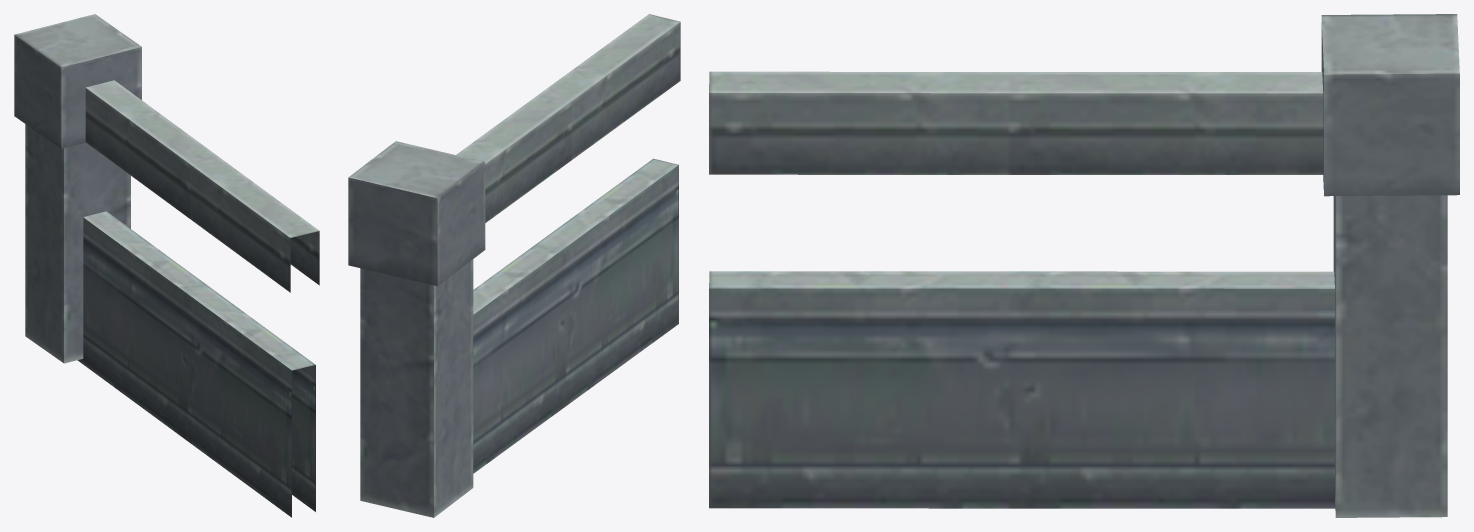
The model's file is jm_hulan01.FBX.
3 renders of one model, left to right at view 1: azimuth 30°, elevation 25°; view 2: azimuth 150°, elevation 25°; view 3: azimuth 270°, elevation 25°, orthographic. The views are drawn at different scales.
Visible parts, largest first — view 1: jm_hulan01_002, jm_hulan01_001; view 2: jm_hulan01_002, jm_hulan01_001; view 3: jm_hulan01_002, jm_hulan01_001.
Boxes of the visible parts, x1=… form: jm_hulan01_002: x1=77, y1=80, x2=319, y2=517; jm_hulan01_001: x1=14, y1=14, x2=141, y2=363; jm_hulan01_002: x1=456, y1=14, x2=680, y2=473; jm_hulan01_001: x1=348, y1=141, x2=485, y2=517; jm_hulan01_002: x1=709, y1=71, x2=1335, y2=508; jm_hulan01_001: x1=1321, y1=14, x2=1459, y2=517.
Size of the model in its own units: 0.1282 by 0.4508 by 0.6708.
